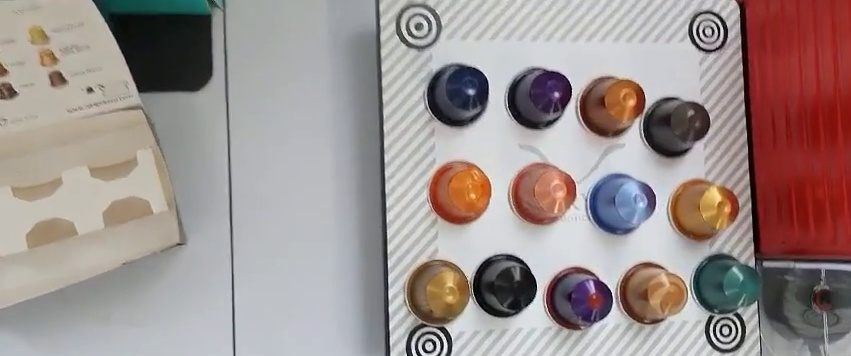capsule_1: (419, 60, 488, 126)
capsule_10: (472, 254, 534, 317)
capsule_11: (541, 264, 611, 332)
capsule_12: (618, 260, 690, 326)
capsule_13: (690, 250, 762, 319)
capsule_2: (505, 65, 573, 134)
capsule_3: (576, 71, 645, 140)
capsule_4: (639, 90, 711, 159)
capsule_5: (426, 158, 493, 228)
capsule_6: (507, 163, 575, 226)
capsule_7: (588, 171, 657, 237)
capsule_8: (665, 176, 743, 242)
capsule_9: (401, 260, 472, 326)
